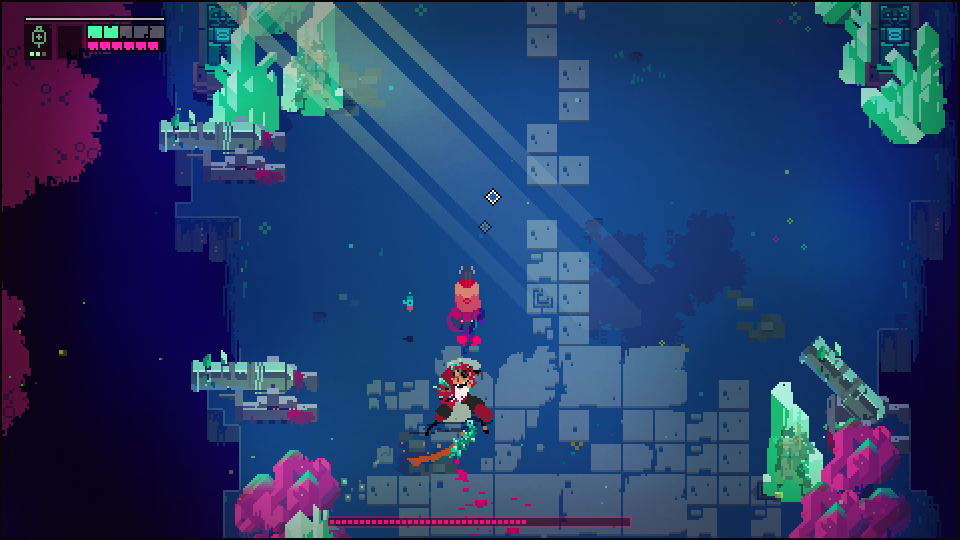hanged_man: (418, 351, 498, 464)
player: (451, 260, 482, 329)
